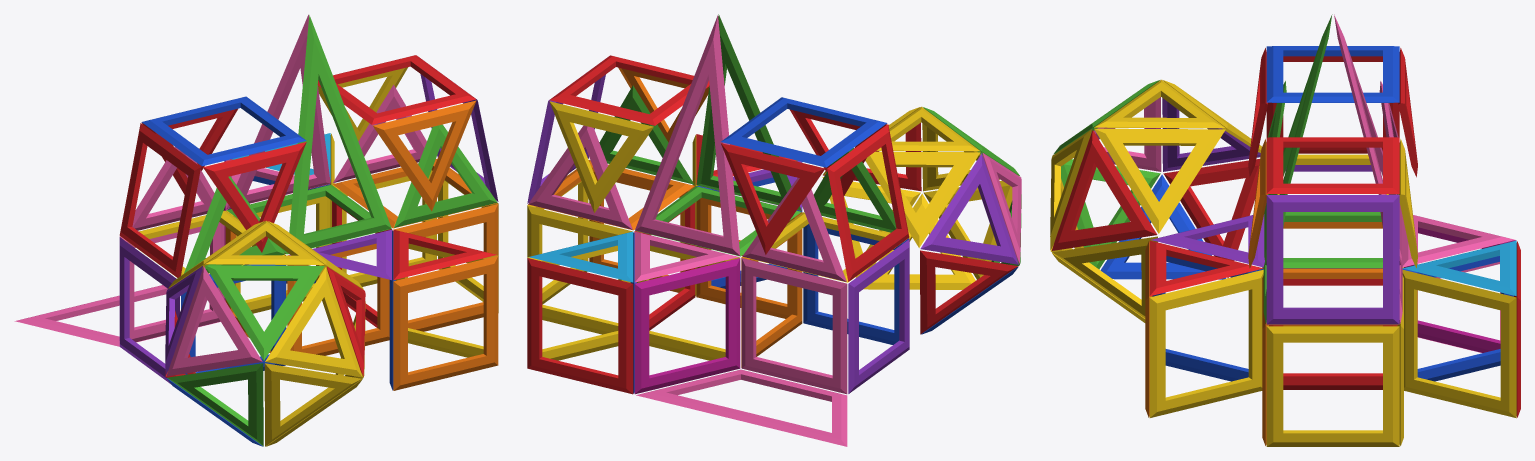
Rendered from tile_starship_frames.glb.
3 renders of one model, left to right at view 1: azimuth 30°, elevation 25°; view 2: azimuth 150°, elevation 25°; view 3: azimuth 270°, elevation 25°, orthographic. The views are drawn at different scales.
Parts seen in each view (by area): view 1: dome, spire_dome, dome_prism_face, nose_pod_end, tail_pod_down_dome, nose_pod_down_dome, nose_pod_roof, spire_wing, tail_pod_up_dome, tail_pod_roof, tail_cube_side_dome, nose_cube_front (+21 smaller); view 2: dome, spire_wing, nose_cube_side_wing, wing_infill_wall, wing_prism_face, wing_trapezoid, nose_pod_end, tail_pod_down_wing, nose_pod_down_wing, nose_cube_front, nose_pod_roof, spire_dome (+22 smaller); view 3: dome, tail_pod_end, tail_cube_back, dome_prism_wall_tail, wing_prism_wall_tail, tail_pod_roof, nose_pod_roof, dome_prism_roof, wing_prism_roof, centre_bulkhead, dome_infill_roof, wing_infill_roof (+19 smaller).
Part boxes in pixels (x1,y1,x2,y2): dome: [165, 220, 365, 446]; spire_dome: [287, 15, 391, 253]; dome_prism_face: [393, 256, 498, 390]; nose_pod_end: [119, 123, 200, 277]; tail_pod_down_dome: [373, 100, 476, 211]; nose_pod_down_dome: [203, 142, 306, 252]; nose_pod_roof: [142, 96, 306, 166]; spire_wing: [226, 14, 330, 208]; tail_pod_up_dome: [394, 124, 497, 227]; tail_pod_roof: [317, 55, 475, 124]; tail_cube_side_dome: [394, 204, 498, 331]; nose_cube_front: [119, 237, 179, 383]; dome: [822, 106, 1021, 334]; spire_wing: [635, 15, 740, 255]; nose_cube_side_wing: [741, 258, 847, 394]; wing_infill_wall: [634, 258, 740, 394]; wing_prism_face: [527, 258, 633, 394]; wing_trapezoid: [636, 369, 847, 446]; nose_pod_end: [827, 124, 909, 281]; tail_pod_down_wing: [549, 101, 653, 212]; nose_pod_down_wing: [721, 143, 825, 254]; nose_cube_front: [848, 239, 909, 393]; nose_pod_roof: [721, 97, 886, 167]; spire_dome: [696, 14, 801, 210]; dome: [1050, 79, 1261, 322]; tail_pod_end: [1266, 195, 1399, 324]; tail_cube_back: [1266, 326, 1399, 446]; dome_prism_wall_tail: [1149, 269, 1263, 417]; wing_prism_wall_tail: [1402, 270, 1516, 418]; tail_pod_roof: [1266, 137, 1399, 193]; nose_pod_roof: [1266, 46, 1399, 102]; dome_prism_roof: [1149, 240, 1263, 295]; wing_prism_roof: [1403, 240, 1516, 296]; centre_bulkhead: [1269, 279, 1397, 389]; dome_infill_roof: [1151, 214, 1264, 267]; wing_infill_roof: [1401, 214, 1514, 267].
Size of the model in its own units: 3.6 by 2.87 by 3.49.
